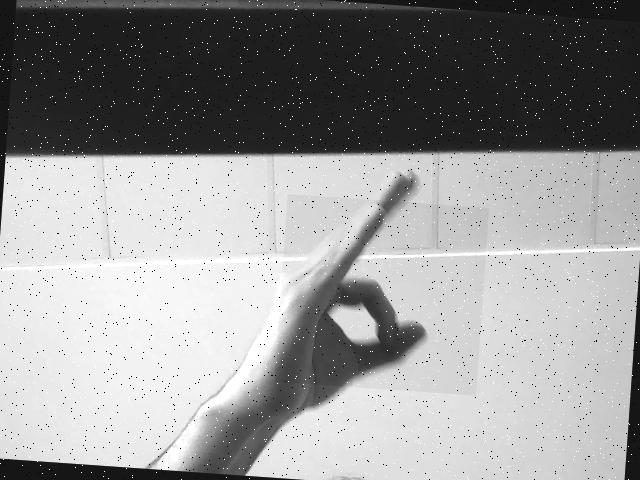OK: (274, 193, 489, 396)
